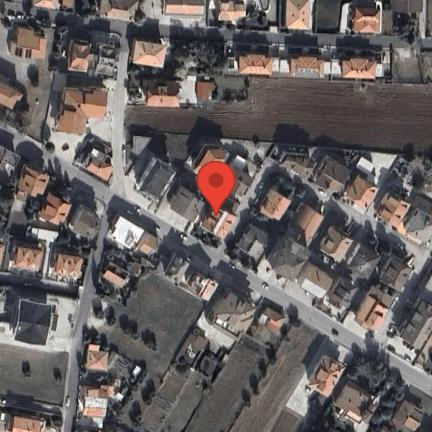area_open: (7, 58, 84, 163), (384, 157, 432, 212), (94, 177, 139, 224), (129, 2, 162, 39), (316, 1, 349, 32), (249, 1, 282, 31), (94, 122, 127, 149)
built: (208, 286, 261, 341), (55, 90, 109, 136), (134, 157, 179, 207), (222, 154, 265, 205), (13, 295, 56, 345), (187, 136, 233, 180), (73, 134, 112, 185), (336, 379, 378, 426), (355, 286, 397, 332), (307, 355, 347, 398), (168, 181, 208, 223), (401, 298, 432, 352), (287, 202, 325, 246), (237, 223, 274, 268), (270, 242, 311, 282), (315, 156, 353, 199), (375, 191, 414, 231), (345, 173, 382, 215), (128, 129, 164, 171), (35, 191, 74, 229), (326, 275, 361, 316), (109, 215, 147, 252), (347, 242, 383, 281), (320, 224, 354, 264), (260, 186, 296, 223), (69, 205, 104, 243), (199, 205, 237, 240), (11, 21, 47, 57), (381, 254, 414, 293), (15, 165, 51, 200), (404, 208, 432, 252), (186, 269, 221, 304), (299, 264, 334, 298), (145, 79, 183, 108), (281, 155, 320, 183), (52, 252, 85, 284), (391, 401, 425, 432), (78, 386, 110, 417), (0, 146, 24, 186), (168, 251, 193, 287), (101, 0, 140, 23), (6, 408, 43, 432), (102, 261, 132, 290), (13, 247, 44, 274), (68, 41, 94, 73), (93, 45, 119, 77), (0, 78, 26, 110), (341, 57, 377, 80), (133, 41, 166, 66), (285, 0, 313, 29), (352, 7, 381, 34), (259, 306, 286, 334), (165, 0, 206, 17), (197, 72, 216, 108), (415, 335, 432, 375), (218, 0, 248, 22), (292, 57, 326, 75), (240, 57, 271, 76), (138, 232, 160, 257), (88, 346, 110, 369), (354, 156, 377, 178), (393, 1, 425, 12), (33, 0, 60, 11), (62, 0, 76, 15)
vegetation_low: (122, 45, 432, 153), (84, 265, 205, 432), (230, 319, 334, 432), (133, 321, 237, 430), (189, 325, 282, 432), (332, 341, 412, 432), (0, 338, 71, 416), (171, 41, 232, 76), (157, 134, 198, 168)
